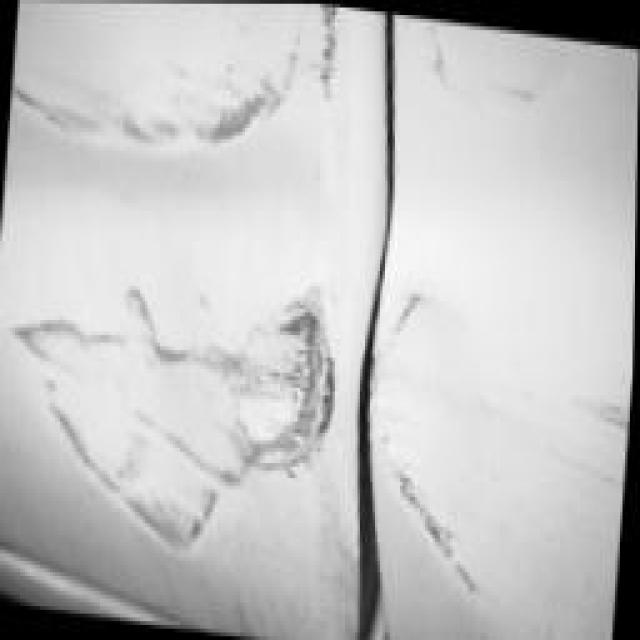Door: (0, 0, 390, 602), (365, 15, 640, 640)
